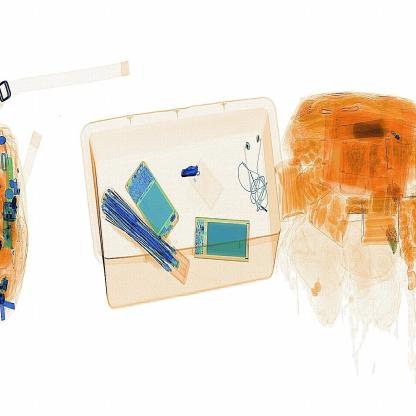knife: (181, 164, 197, 184)
